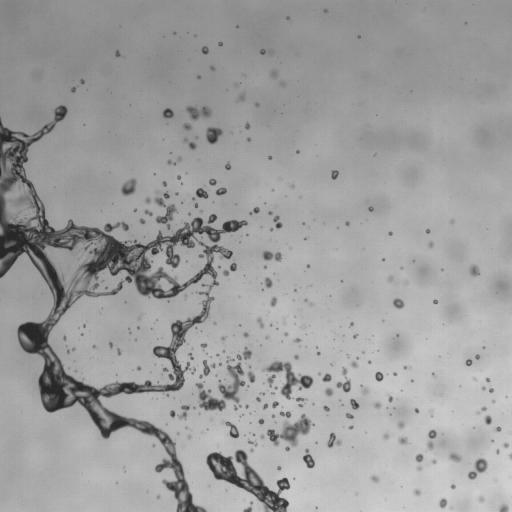droplet: (261, 359, 313, 408), (467, 456, 488, 479), (415, 453, 437, 471), (120, 178, 137, 196), (206, 126, 222, 144), (326, 432, 342, 450), (195, 184, 209, 198), (247, 438, 257, 452), (162, 108, 174, 119), (260, 277, 272, 288), (392, 298, 404, 309), (349, 356, 360, 368), (469, 264, 479, 277), (448, 452, 461, 462), (173, 106, 184, 117), (197, 116, 208, 127), (4, 119, 15, 130), (196, 135, 207, 146), (26, 144, 37, 155), (126, 215, 137, 226), (52, 220, 63, 231), (169, 220, 180, 231), (111, 228, 122, 239), (219, 231, 230, 242), (17, 252, 28, 263), (211, 253, 222, 264), (39, 281, 50, 292), (44, 291, 55, 302), (32, 313, 43, 324), (247, 322, 258, 333), (184, 328, 195, 339), (174, 349, 185, 360), (193, 349, 204, 360), (32, 353, 43, 364), (291, 365, 302, 376), (346, 369, 357, 380), (255, 370, 266, 381), (331, 371, 342, 382), (222, 375, 233, 386), (203, 377, 214, 388), (311, 377, 322, 388), (290, 384, 301, 395), (348, 387, 359, 398), (189, 394, 200, 405), (280, 398, 291, 409), (117, 406, 128, 417), (115, 426, 126, 437), (495, 431, 506, 442), (233, 438, 244, 449), (437, 452, 448, 463), (164, 469, 175, 480), (443, 489, 454, 500), (252, 500, 263, 511), (215, 186, 226, 196), (248, 206, 260, 215), (243, 501, 253, 511), (236, 91, 245, 102), (360, 384, 369, 395), (350, 398, 359, 409), (438, 497, 447, 508), (256, 316, 264, 328), (398, 436, 410, 444), (292, 337, 301, 347), (374, 371, 383, 381), (369, 474, 379, 483), (484, 414, 492, 425), (270, 295, 277, 307), (322, 373, 331, 382), (324, 387, 333, 396), (382, 431, 391, 440), (244, 95, 253, 104), (45, 112, 54, 121), (182, 113, 191, 122), (26, 126, 35, 135), (171, 165, 180, 174), (165, 184, 174, 193), (206, 185, 215, 194), (157, 206, 166, 215), (146, 215, 155, 224), (212, 220, 221, 229), (221, 258, 230, 267), (265, 287, 274, 296), (295, 290, 304, 299), (290, 343, 299, 352), (357, 357, 366, 366), (326, 379, 335, 388), (31, 384, 40, 393), (299, 387, 308, 396), (213, 391, 222, 400), (342, 391, 351, 400), (276, 393, 285, 402), (323, 396, 332, 405), (224, 398, 233, 407), (55, 407, 64, 416), (261, 409, 270, 418), (135, 412, 144, 421), (288, 415, 297, 424), (263, 420, 272, 429), (259, 423, 268, 432), (90, 425, 99, 434), (274, 425, 283, 434), (399, 427, 408, 436), (147, 433, 156, 442), (389, 434, 398, 443), (277, 437, 286, 446), (422, 450, 431, 459), (246, 457, 255, 466), (218, 478, 227, 487), (227, 482, 236, 491), (268, 482, 277, 491), (279, 489, 288, 498), (270, 69, 278, 79), (498, 503, 508, 511), (182, 123, 192, 130), (465, 358, 473, 366), (373, 401, 381, 409), (331, 170, 338, 179), (144, 209, 153, 216), (200, 342, 207, 351), (345, 412, 354, 419), (257, 417, 264, 426), (387, 392, 393, 402), (428, 407, 434, 417), (201, 46, 208, 54), (115, 50, 123, 57), (209, 178, 217, 185), (271, 401, 279, 408), (397, 421, 404, 429), (413, 488, 421, 495), (477, 495, 484, 503), (225, 161, 231, 170), (276, 73, 283, 80), (72, 79, 79, 86), (235, 86, 242, 93), (204, 100, 211, 107), (197, 114, 204, 121), (55, 120, 62, 127), (211, 121, 218, 128), (243, 129, 250, 136), (216, 134, 223, 141), (25, 173, 32, 180), (115, 183, 122, 190), (134, 183, 141, 190), (159, 185, 166, 192), (176, 185, 183, 192), (115, 189, 122, 196), (127, 192, 134, 199), (148, 192, 155, 199), (196, 196, 203, 203), (163, 198, 170, 205), (174, 202, 181, 209), (192, 210, 199, 217), (142, 213, 149, 220), (243, 214, 250, 221), (185, 215, 192, 222), (73, 219, 80, 226), (86, 221, 93, 228), (158, 222, 165, 229), (237, 226, 244, 233), (167, 229, 174, 236), (140, 238, 147, 245), (269, 247, 276, 254), (212, 251, 219, 258), (471, 258, 478, 265), (11, 261, 18, 268), (477, 265, 484, 272), (215, 268, 222, 275), (463, 268, 470, 275), (4, 270, 11, 277), (208, 301, 215, 308), (286, 316, 293, 323), (19, 317, 26, 324), (278, 325, 285, 332), (350, 326, 357, 333), (288, 332, 295, 339), (219, 354, 226, 361), (212, 356, 219, 363), (279, 356, 286, 363), (264, 359, 271, 366), (240, 363, 247, 370), (196, 366, 203, 373), (396, 367, 403, 374), (182, 371, 189, 378), (349, 382, 356, 389), (193, 387, 200, 394), (118, 391, 125, 398), (131, 391, 138, 398), (97, 394, 104, 401), (381, 398, 388, 405), (484, 400, 491, 407), (38, 405, 45, 412), (274, 405, 281, 412), (175, 407, 182, 414), (348, 407, 355, 414), (82, 410, 89, 417), (480, 410, 487, 417), (305, 412, 312, 419), (179, 418, 186, 425), (345, 418, 352, 425), (490, 419, 497, 426), (153, 421, 160, 428), (308, 425, 315, 432), (180, 429, 187, 436), (109, 430, 116, 437), (168, 432, 175, 439), (295, 432, 302, 439), (208, 446, 215, 453), (499, 447, 506, 454), (454, 448, 461, 455), (221, 450, 228, 457), (480, 452, 487, 459), (176, 454, 183, 461), (448, 459, 455, 466), (181, 463, 188, 470), (468, 464, 475, 471), (485, 464, 492, 471), (257, 470, 264, 477), (183, 474, 190, 481), (188, 486, 195, 493), (248, 493, 255, 500), (171, 498, 178, 505), (191, 498, 198, 505), (428, 240, 434, 248), (108, 341, 114, 349), (116, 347, 122, 355), (493, 426, 501, 432), (284, 506, 293, 511), (440, 506, 449, 511), (244, 122, 250, 129), (387, 275, 393, 282), (299, 323, 306, 329), (242, 331, 249, 337), (323, 405, 330, 411), (502, 442, 509, 448), (403, 365, 411, 370), (139, 218, 145, 224), (283, 331, 289, 337), (262, 403, 268, 409), (349, 321, 354, 328), (485, 377, 490, 384), (259, 49, 265, 54), (209, 65, 215, 70), (280, 81, 285, 87), (162, 180, 167, 186), (289, 183, 295, 188), (193, 202, 198, 208), (449, 218, 455, 223), (403, 279, 408, 285), (220, 336, 226, 341), (432, 372, 437, 378), (256, 396, 261, 402), (507, 445, 511, 452), (438, 507, 445, 511), (254, 102, 259, 107), (368, 206, 373, 211), (345, 221, 350, 226), (425, 228, 430, 233), (433, 299, 438, 304), (353, 333, 358, 338), (265, 334, 270, 339), (293, 354, 298, 359), (136, 365, 141, 370), (472, 376, 477, 381), (270, 391, 275, 396), (414, 408, 419, 413), (348, 424, 353, 429), (260, 434, 265, 439), (450, 484, 455, 489), (263, 45, 268, 50), (255, 47, 260, 52), (207, 49, 212, 54), (244, 93, 249, 98), (233, 94, 238, 99), (238, 100, 243, 105), (62, 101, 67, 106), (190, 102, 195, 107), (65, 104, 70, 109), (160, 105, 165, 110), (169, 105, 174, 110), (196, 105, 201, 110), (63, 114, 68, 119), (166, 117, 171, 122), (248, 120, 253, 125), (240, 121, 245, 126), (2, 122, 7, 127), (38, 123, 43, 128), (249, 123, 254, 128), (240, 126, 245, 131), (50, 128, 55, 133), (24, 129, 29, 134), (41, 134, 46, 139), (189, 137, 194, 142), (211, 142, 216, 147), (184, 143, 189, 148), (194, 145, 199, 150), (162, 157, 167, 162), (170, 157, 175, 162), (229, 161, 234, 166), (21, 162, 26, 167), (326, 171, 331, 176), (36, 191, 41, 196), (191, 191, 196, 196), (189, 200, 194, 205), (248, 206, 253, 211), (208, 209, 213, 214), (171, 211, 176, 216), (151, 213, 156, 218), (44, 214, 49, 219), (269, 214, 274, 219), (236, 216, 241, 221), (345, 216, 350, 221), (109, 220, 114, 225), (135, 220, 140, 225), (47, 221, 52, 226), (270, 221, 275, 226), (178, 223, 183, 228), (99, 226, 104, 231), (127, 226, 132, 231), (278, 226, 283, 231), (151, 235, 156, 240), (215, 240, 220, 245), (423, 241, 428, 246), (432, 243, 437, 248), (279, 249, 284, 254), (270, 256, 275, 261), (263, 259, 268, 264), (27, 260, 32, 265), (210, 262, 215, 267), (235, 264, 240, 269), (225, 265, 230, 270), (33, 268, 38, 273), (228, 270, 233, 275), (36, 272, 41, 277), (474, 274, 479, 279), (269, 275, 274, 280), (214, 276, 219, 281), (260, 277, 265, 282), (271, 279, 276, 284), (261, 282, 266, 287), (263, 286, 268, 291), (399, 295, 404, 300), (307, 296, 312, 301), (266, 297, 271, 302), (388, 298, 393, 303), (402, 298, 407, 303), (274, 302, 279, 307), (268, 305, 273, 310), (391, 305, 396, 310), (398, 307, 403, 312), (252, 314, 257, 319), (261, 318, 266, 323), (277, 318, 282, 323), (296, 321, 301, 326), (193, 322, 198, 327), (254, 322, 259, 327), (272, 322, 277, 327), (13, 325, 18, 330), (270, 325, 275, 330), (240, 327, 245, 332), (304, 327, 309, 332), (13, 336, 18, 341), (224, 337, 229, 342), (260, 338, 265, 343), (15, 342, 20, 347), (17, 345, 22, 350), (246, 345, 251, 350), (203, 346, 208, 351), (224, 350, 229, 355), (297, 352, 302, 357), (249, 353, 254, 358), (202, 354, 207, 359), (350, 355, 355, 360), (185, 356, 190, 361), (471, 357, 476, 362), (355, 359, 360, 364), (189, 360, 194, 365), (206, 360, 211, 365), (222, 362, 227, 367), (180, 364, 185, 369), (337, 367, 342, 372), (327, 369, 332, 374), (268, 370, 273, 375), (320, 371, 325, 376), (345, 372, 350, 377), (34, 374, 39, 379), (382, 374, 387, 379), (253, 376, 258, 381), (197, 378, 202, 383), (340, 378, 345, 383), (182, 381, 187, 386), (264, 381, 269, 386), (309, 383, 314, 388), (202, 385, 207, 390), (237, 385, 242, 390), (179, 386, 184, 391), (269, 386, 274, 391), (301, 386, 306, 391), (338, 386, 343, 391), (148, 390, 153, 395), (141, 391, 146, 396), (321, 392, 326, 397), (258, 394, 263, 399), (391, 398, 396, 403), (238, 399, 243, 404), (74, 400, 79, 405), (182, 400, 187, 405), (259, 400, 264, 405), (267, 401, 272, 406), (480, 401, 485, 406), (369, 404, 374, 409), (476, 405, 481, 410), (199, 406, 204, 411), (213, 407, 218, 412), (236, 407, 241, 412), (281, 407, 286, 412), (373, 407, 378, 412), (387, 407, 392, 412), (185, 409, 190, 414), (321, 409, 326, 414), (165, 410, 170, 415), (432, 410, 437, 415), (281, 415, 286, 420), (480, 418, 485, 423), (230, 419, 235, 424), (403, 423, 408, 428), (225, 425, 230, 430), (427, 425, 432, 430), (236, 426, 241, 431), (184, 429, 189, 434), (379, 429, 384, 434), (423, 430, 428, 435), (190, 431, 195, 436), (435, 431, 440, 436), (254, 433, 259, 438), (334, 433, 339, 438), (264, 434, 269, 439), (324, 434, 329, 439), (377, 434, 382, 439), (229, 436, 234, 441), (249, 436, 254, 441), (406, 436, 411, 441), (425, 436, 430, 441), (430, 437, 435, 442), (503, 437, 508, 442), (256, 438, 261, 443), (384, 438, 389, 443), (268, 440, 273, 445), (339, 443, 344, 448), (400, 443, 405, 448), (498, 445, 503, 450), (214, 447, 219, 452), (244, 449, 249, 454), (415, 449, 420, 454), (301, 450, 306, 455), (308, 450, 313, 455), (445, 450, 450, 455), (311, 454, 316, 459), (433, 454, 438, 459), (410, 455, 415, 460), (473, 455, 478, 460), (201, 457, 206, 462), (413, 460, 418, 465), (301, 461, 306, 466), (313, 462, 318, 467), (430, 463, 435, 468), (204, 464, 209, 469), (208, 470, 213, 475), (416, 470, 421, 475), (463, 470, 468, 475), (374, 471, 379, 476), (476, 471, 481, 476), (277, 474, 282, 479), (463, 474, 468, 479), (287, 478, 292, 483), (367, 478, 372, 483), (415, 484, 420, 489), (239, 487, 244, 492), (419, 488, 424, 493), (408, 489, 413, 494), (169, 490, 174, 495), (440, 493, 445, 498), (414, 494, 419, 499), (483, 494, 488, 499), (435, 497, 440, 502), (473, 498, 478, 503), (445, 502, 450, 507), (243, 503, 248, 508), (80, 78, 84, 84), (303, 236, 309, 240), (346, 353, 350, 359), (489, 387, 493, 393), (196, 75, 201, 79), (246, 137, 251, 141), (267, 155, 272, 159), (268, 211, 273, 215), (388, 231, 393, 235), (293, 288, 297, 293), (269, 321, 273, 326), (62, 335, 66, 340), (475, 354, 479, 359), (218, 362, 223, 366), (392, 372, 397, 376), (481, 386, 486, 390), (244, 404, 249, 408), (187, 434, 191, 439), (277, 465, 281, 470), (156, 494, 160, 499), (259, 392, 265, 395), (496, 448, 499, 454), (286, 16, 290, 20), (218, 42, 222, 46), (242, 73, 246, 77), (133, 208, 137, 212), (187, 212, 191, 216), (269, 227, 273, 231), (263, 265, 267, 269), (306, 264, 310, 268), (92, 344, 96, 348), (316, 351, 320, 355), (361, 350, 365, 354), (317, 372, 321, 376), (491, 399, 495, 403), (271, 414, 275, 418), (507, 507, 511, 511), (323, 9, 328, 12), (177, 174, 180, 179), (412, 258, 415, 263), (508, 442, 511, 447), (238, 508, 243, 511), (250, 508, 255, 511), (315, 508, 320, 511), (494, 508, 499, 511), (296, 149, 299, 153), (373, 152, 376, 156), (174, 192, 178, 195), (192, 197, 195, 201), (199, 210, 203, 213), (245, 233, 249, 236), (381, 258, 385, 261), (217, 265, 221, 268), (104, 286, 108, 289), (213, 321, 216, 325), (396, 333, 399, 337), (315, 345, 318, 349), (72, 347, 75, 351), (222, 349, 225, 353), (368, 360, 371, 364), (329, 363, 333, 366), (214, 373, 217, 377), (410, 379, 414, 382), (210, 417, 213, 421), (185, 426, 189, 429), (176, 431, 179, 435), (152, 443, 155, 447), (67, 349, 69, 354), (464, 21, 467, 24), (235, 25, 238, 28), (357, 35, 360, 38), (195, 136, 198, 139), (180, 182, 183, 185), (271, 188, 274, 191), (302, 222, 305, 225), (336, 226, 339, 229), (400, 266, 403, 269), (440, 268, 443, 271), (101, 280, 104, 283), (134, 338, 137, 341), (482, 346, 485, 349), (216, 353, 219, 356), (74, 369, 77, 372), (341, 403, 344, 406), (193, 406, 196, 409), (273, 420, 276, 423), (472, 426, 475, 429), (491, 439, 494, 442), (494, 478, 497, 481), (327, 8, 330, 11), (286, 12, 289, 15), (289, 15, 292, 18), (286, 19, 289, 22), (233, 22, 236, 25), (238, 24, 241, 27), (235, 27, 238, 30), (172, 28, 175, 31), (357, 31, 360, 34), (172, 34, 175, 37), (354, 34, 357, 37), (360, 34, 363, 37), (217, 38, 220, 41), (215, 42, 218, 45), (222, 42, 225, 45), (204, 43, 207, 46), (218, 45, 221, 48), (118, 50, 121, 53), (112, 51, 115, 54), (199, 51, 202, 54), (264, 51, 267, 54), (202, 53, 205, 56), (259, 53, 262, 56), (116, 56, 119, 59), (213, 64, 216, 67), (209, 69, 212, 72), (198, 72, 201, 75), (193, 74, 196, 77), (82, 76, 85, 79), (197, 78, 200, 81), (236, 80, 239, 83), (83, 81, 86, 84), (69, 84, 72, 87), (67, 87, 70, 90), (75, 87, 78, 90), (70, 91, 73, 94), (256, 99, 259, 102), (252, 104, 255, 107), (250, 137, 253, 140), (245, 140, 248, 143), (169, 148, 172, 151), (298, 148, 301, 151), (292, 150, 295, 153), (371, 150, 374, 153), (268, 152, 271, 155), (295, 153, 298, 156), (264, 156, 267, 159), (271, 156, 274, 159), (268, 159, 271, 162), (223, 161, 226, 164), (175, 162, 178, 165), (170, 163, 173, 166), (222, 166, 225, 169), (332, 167, 335, 170), (152, 169, 155, 172), (226, 169, 229, 172), (155, 172, 158, 175), (336, 174, 339, 177), (173, 175, 176, 178), (213, 176, 216, 179), (177, 179, 180, 182), (165, 180, 168, 183), (182, 181, 185, 184), (180, 184, 183, 187), (225, 187, 228, 190), (174, 189, 177, 192), (167, 191, 170, 194), (178, 191, 181, 194), (220, 193, 223, 196), (161, 195, 164, 198), (367, 203, 370, 206), (371, 204, 374, 207), (130, 207, 133, 210), (269, 208, 272, 211), (366, 209, 369, 212), (371, 210, 374, 213), (255, 212, 258, 215), (215, 213, 218, 216), (118, 219, 121, 222), (299, 219, 302, 222), (124, 220, 127, 223), (342, 221, 345, 224), (127, 223, 130, 226), (299, 223, 302, 226), (304, 223, 307, 226), (348, 223, 351, 226), (343, 224, 346, 227), (428, 226, 431, 229), (423, 227, 426, 230), (266, 228, 269, 231), (387, 228, 390, 231), (385, 231, 388, 234), (424, 232, 427, 235), (427, 232, 430, 235), (391, 233, 394, 236), (387, 234, 390, 237), (246, 235, 249, 238), (300, 236, 303, 239), (304, 239, 307, 242), (228, 247, 231, 250), (230, 254, 233, 257), (380, 255, 383, 258), (409, 257, 412, 260), (384, 258, 387, 261), (380, 260, 383, 263), (409, 260, 412, 263), (414, 260, 417, 263), (303, 263, 306, 266), (309, 263, 312, 266), (440, 264, 443, 267), (260, 265, 263, 268), (396, 266, 399, 269), (305, 267, 308, 270), (437, 268, 440, 271), (442, 269, 445, 272), (339, 276, 342, 279), (337, 280, 340, 283), (340, 282, 343, 285), (213, 284, 216, 287), (292, 285, 295, 288), (296, 287, 299, 290), (258, 289, 261, 292), (292, 291, 295, 294), (208, 293, 211, 296), (301, 296, 304, 299), (434, 296, 437, 299), (429, 299, 432, 302), (304, 301, 307, 304), (433, 303, 436, 306), (293, 318, 296, 321), (215, 319, 218, 322), (238, 320, 241, 323), (352, 320, 355, 323), (304, 322, 307, 325), (346, 322, 349, 325), (212, 324, 215, 327), (350, 325, 353, 328), (274, 329, 277, 332), (395, 330, 398, 333), (247, 331, 250, 334), (352, 331, 355, 334), (222, 333, 225, 336), (398, 333, 401, 336), (240, 334, 243, 337), (281, 334, 284, 337), (349, 334, 352, 337), (393, 334, 396, 337), (297, 335, 300, 338), (356, 335, 359, 338), (266, 338, 269, 341), (219, 339, 222, 342), (200, 340, 203, 343), (298, 341, 301, 344), (206, 342, 209, 345), (481, 342, 484, 345), (312, 345, 315, 348), (199, 346, 202, 349), (484, 346, 487, 349), (316, 348, 319, 351), (188, 349, 191, 352), (346, 350, 349, 353), (313, 351, 316, 354), (376, 351, 379, 354), (207, 352, 210, 355), (478, 352, 481, 355), (191, 353, 194, 356), (317, 354, 320, 357), (343, 354, 346, 357), (465, 356, 468, 359), (478, 357, 481, 360), (370, 359, 373, 362), (462, 359, 465, 362), (364, 360, 367, 363), (331, 361, 334, 364), (403, 362, 406, 365), (215, 363, 218, 366), (367, 363, 370, 366), (470, 363, 473, 366), (464, 364, 467, 367), (405, 368, 408, 371), (379, 369, 382, 372), (394, 369, 397, 372), (434, 371, 437, 374), (207, 372, 210, 375), (382, 372, 385, 375), (428, 372, 431, 375), (202, 374, 205, 377), (486, 374, 489, 377), (392, 375, 395, 378), (475, 375, 478, 378), (372, 376, 375, 379), (411, 376, 414, 379), (489, 377, 492, 380), (380, 379, 383, 382), (407, 379, 410, 382), (411, 381, 414, 384), (362, 383, 365, 386), (485, 388, 488, 391), (260, 389, 263, 392), (399, 391, 402, 394), (491, 391, 494, 394), (385, 396, 388, 399), (254, 399, 257, 402), (355, 399, 358, 402), (338, 401, 341, 404), (492, 402, 495, 405), (241, 404, 244, 407), (189, 405, 192, 408), (246, 407, 249, 410), (417, 407, 420, 410), (412, 410, 415, 413), (391, 412, 394, 415), (427, 412, 430, 415), (342, 413, 345, 416), (174, 414, 177, 417), (168, 415, 171, 418), (241, 415, 244, 418), (388, 415, 391, 418), (256, 417, 259, 420), (256, 422, 259, 425), (205, 424, 208, 427), (499, 424, 502, 427), (269, 426, 272, 429), (500, 427, 503, 430), (203, 428, 206, 431), (349, 428, 352, 431), (496, 430, 499, 433), (256, 444, 259, 447), (493, 449, 496, 452), (285, 450, 288, 453), (506, 455, 509, 458), (436, 459, 439, 462), (277, 462, 280, 465), (274, 465, 277, 468), (124, 466, 127, 469), (308, 467, 311, 470), (452, 481, 455, 484), (448, 482, 451, 485), (448, 487, 451, 490), (451, 488, 454, 491), (153, 495, 156, 498), (157, 498, 160, 501), (317, 505, 320, 508), (312, 506, 315, 509), (288, 247, 292, 249), (272, 272, 276, 274), (83, 323, 85, 327), (315, 506, 317, 510), (173, 32, 176, 34), (194, 34, 196, 37), (169, 152, 172, 154), (153, 172, 155, 175), (260, 226, 263, 228), (340, 280, 343, 282), (261, 288, 263, 291), (292, 299, 295, 301), (382, 319, 384, 322), (238, 324, 241, 326), (137, 326, 139, 329), (150, 327, 152, 330), (195, 326, 197, 329), (80, 333, 83, 335), (304, 333, 307, 335), (304, 345, 307, 347), (209, 356, 212, 358), (262, 382, 265, 384), (505, 395, 507, 398), (173, 396, 175, 399), (312, 402, 314, 405), (281, 405, 283, 408), (249, 421, 252, 423), (201, 431, 204, 433), (243, 434, 246, 436), (315, 441, 317, 444), (293, 477, 295, 480), (355, 492, 357, 495), (83, 123, 85, 125), (185, 172, 187, 174), (284, 195, 286, 197), (212, 201, 214, 203), (264, 202, 266, 204), (239, 241, 241, 243), (185, 260, 187, 262), (243, 274, 245, 276), (190, 292, 192, 294), (238, 295, 240, 297), (124, 301, 126, 303), (294, 316, 296, 318), (276, 327, 278, 329), (342, 334, 344, 336), (377, 349, 379, 351), (205, 352, 207, 354), (438, 355, 440, 357), (154, 363, 156, 365), (115, 373, 117, 375), (386, 373, 388, 375), (459, 385, 461, 387), (400, 389, 402, 391), (339, 399, 341, 401), (386, 407, 388, 409), (393, 407, 395, 409), (198, 412, 200, 414), (249, 412, 251, 414), (389, 413, 391, 415), (166, 423, 168, 425), (206, 428, 208, 430), (441, 433, 443, 435), (124, 470, 126, 472), (329, 295, 331, 296), (293, 323, 295, 324), (442, 323, 444, 324), (308, 325, 310, 326), (200, 330, 202, 331), (333, 338, 334, 340), (281, 341, 283, 342), (65, 345, 67, 346), (144, 236, 145, 237), (78, 327, 79, 328), (68, 367, 69, 368), (400, 486, 401, 487)
ligament: (185, 105, 212, 120), (220, 419, 240, 439), (424, 429, 436, 452), (222, 257, 236, 276), (302, 448, 314, 468), (262, 250, 282, 261), (182, 136, 196, 150), (166, 156, 182, 165), (273, 215, 282, 229), (187, 346, 194, 360), (475, 406, 487, 414), (304, 298, 314, 307), (282, 315, 288, 325), (137, 313, 144, 320), (70, 86, 78, 92), (238, 413, 244, 418), (183, 293, 187, 300), (153, 318, 158, 323), (128, 327, 131, 335), (249, 432, 255, 436), (508, 452, 511, 460), (181, 199, 183, 204), (225, 487, 227, 491)
